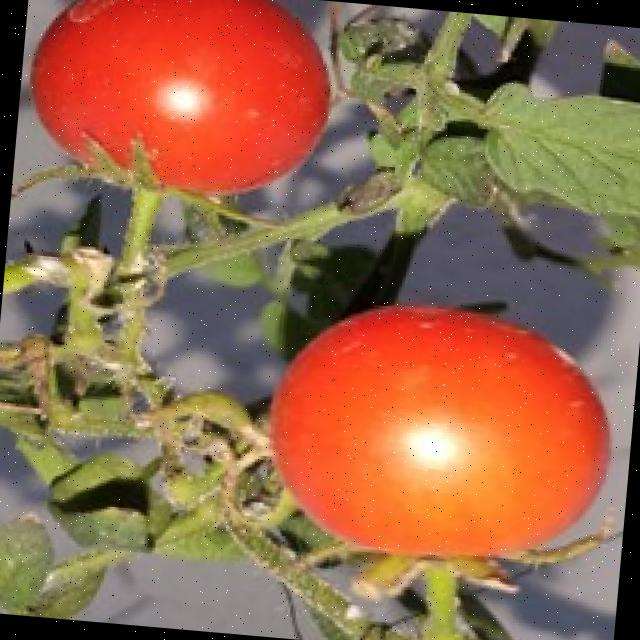tomato: (270, 305, 608, 555), (33, 0, 328, 193)
